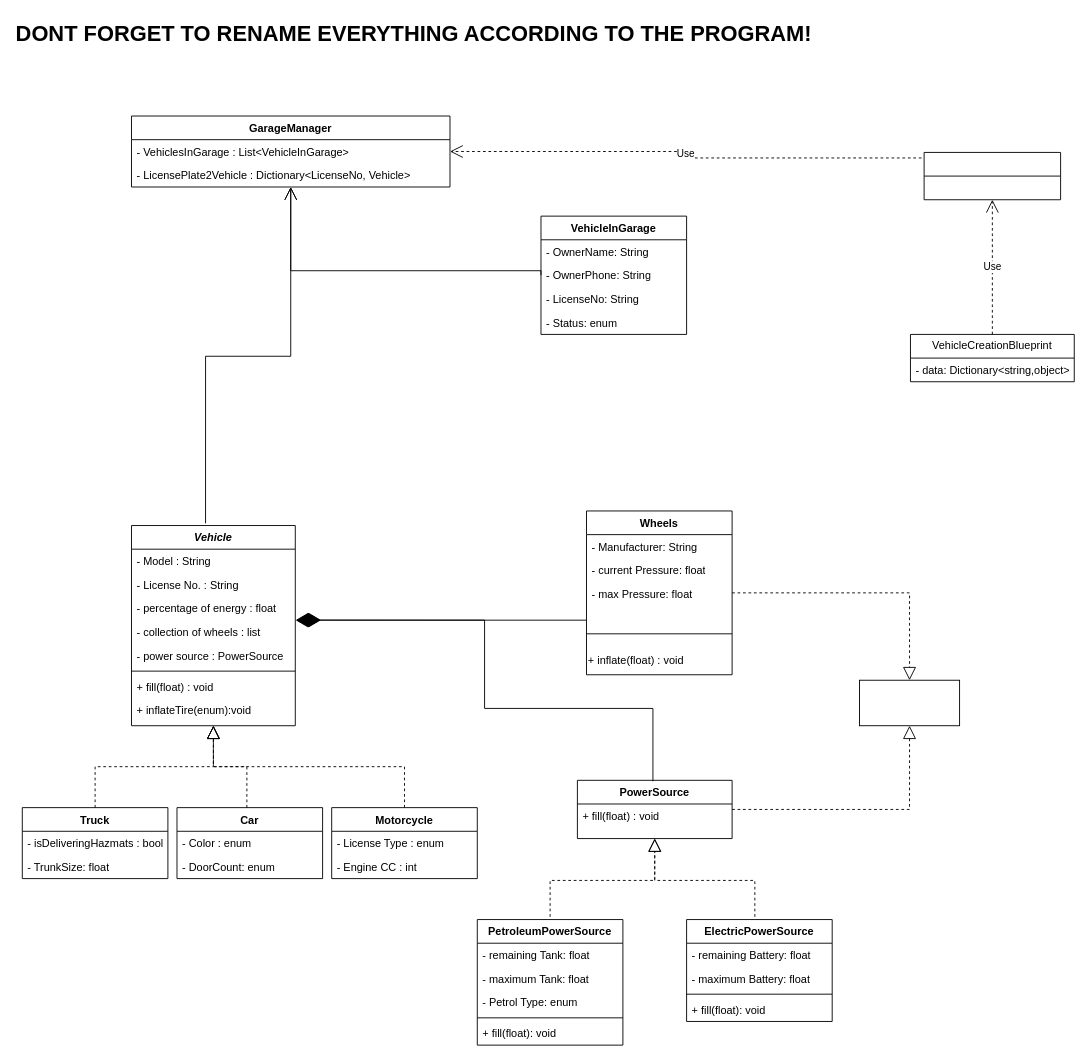
This 1090x1063 diagram has some shape labels left out. Here are the shapes that lost their labels. From the top down, the centre of each, then its label:
the point at 992,176: VehicleCreator
the point at 909,702: «interface» Fillable
